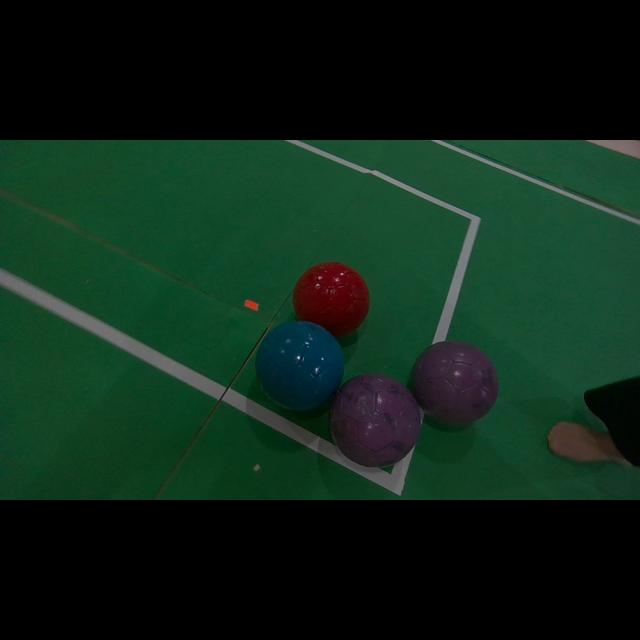B: (255, 320, 345, 411)
P: (329, 374, 421, 467), (411, 341, 499, 426)
R: (292, 262, 370, 338)
